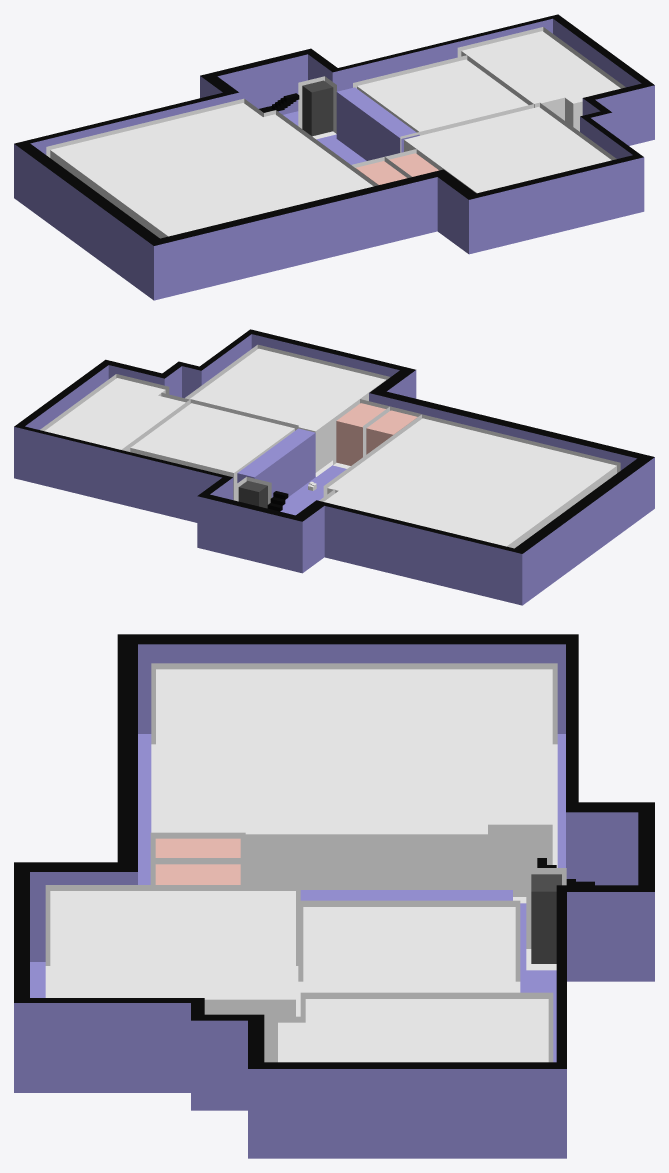
The picture shows the model from 3 angles, top to bottom: view 1: azimuth 30°, elevation 25°; view 2: azimuth 150°, elevation 25°; view 3: azimuth 270°, elevation 25°; orthographic projection. The views are drawn at different scales.
Parts seen in each view (by area): view 1: object, room_L_3_2, room_L_3_1, room_L_3_3, room_L_3_4, object_line.006, エレベーター_L_3_1, object_line.002, object_line.003, object_line.004, トイレ_L_3_1, object_line.005 (+1 smaller); view 2: object, room_L_3_2, room_L_3_1, room_L_3_3, room_L_3_4, トイレ_L_3_2, object_line.006, トイレ_L_3_1, object_line.002, object_line.003, object_line.004, エレベーター_L_3_1 (+1 smaller); view 3: object, room_L_3_2, room_L_3_1, room_L_3_3, room_L_3_4, object_line.006, object_line.004, object_line.002, object_line.003, エレベーター_L_3_1, トイレ_L_3_2, トイレ_L_3_1 (+3 smaller).
Part boxes in pixels (x1=…): object: x1=14, y1=14, x2=654, y2=300; room_L_3_2: x1=50, y1=103, x2=373, y2=238; room_L_3_1: x1=404, y1=107, x2=611, y2=193; room_L_3_3: x1=357, y1=59, x2=528, y2=132; room_L_3_4: x1=461, y1=31, x2=620, y2=131; object_line.006: x1=46, y1=98, x2=378, y2=186; エレベーター_L_3_1: x1=302, y1=80, x2=333, y2=136; object_line.002: x1=400, y1=102, x2=616, y2=160; object_line.003: x1=353, y1=55, x2=534, y2=107; object_line.004: x1=457, y1=27, x2=625, y2=88; トイレ_L_3_1: x1=356, y1=161, x2=406, y2=184; object_line.005: x1=298, y1=76, x2=336, y2=139; object: x1=14, y1=329, x2=654, y2=605; room_L_3_2: x1=324, y1=418, x2=616, y2=548; room_L_3_1: x1=189, y1=348, x2=385, y2=472; room_L_3_3: x1=130, y1=403, x2=294, y2=500; room_L_3_4: x1=44, y1=378, x2=185, y2=451; トイレ_L_3_2: x1=336, y1=403, x2=385, y2=465; object_line.006: x1=319, y1=414, x2=620, y2=501; トイレ_L_3_1: x1=366, y1=410, x2=417, y2=454; object_line.002: x1=185, y1=344, x2=389, y2=476; object_line.003: x1=126, y1=399, x2=298, y2=451; object_line.004: x1=40, y1=374, x2=189, y2=430; エレベーター_L_3_1: x1=238, y1=480, x2=267, y2=508; object: x1=14, y1=634, x2=654, y2=1158; room_L_3_2: x1=156, y1=669, x2=552, y2=896; room_L_3_1: x1=50, y1=891, x2=295, y2=1062; room_L_3_3: x1=303, y1=907, x2=515, y2=992; room_L_3_4: x1=278, y1=999, x2=548, y2=1062; object_line.006: x1=151, y1=663, x2=557, y2=903; object_line.004: x1=273, y1=992, x2=553, y2=1062; object_line.002: x1=45, y1=885, x2=300, y2=1016; object_line.003: x1=298, y1=900, x2=520, y2=992; エレベーター_L_3_1: x1=531, y1=874, x2=561, y2=963; トイレ_L_3_2: x1=155, y1=864, x2=240, y2=884; トイレ_L_3_1: x1=155, y1=838, x2=240, y2=857.
Bounding box in the file's own units: 2.35 × 0.2295 × 1.46.
